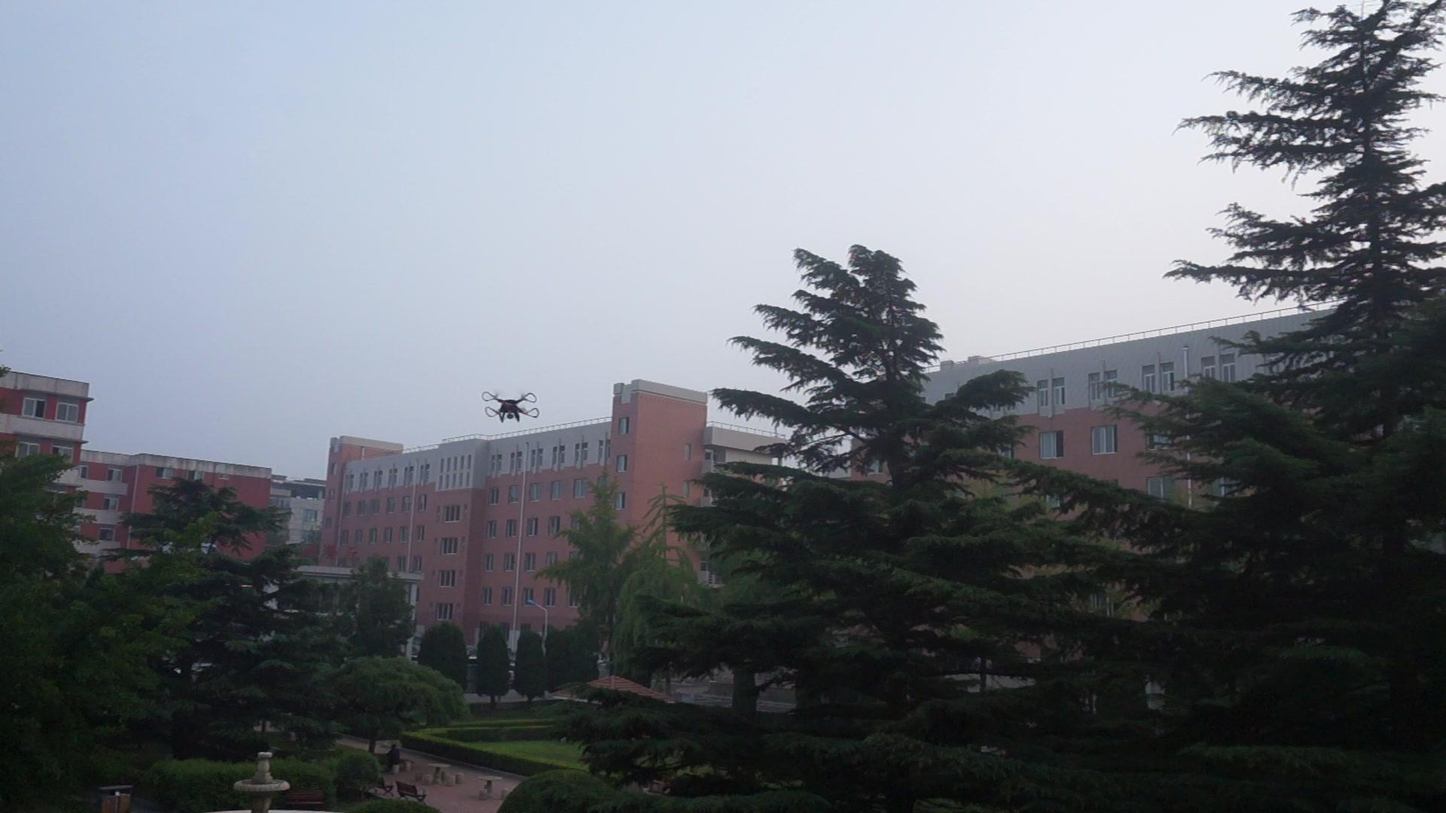UAV: (483, 391, 541, 424)
